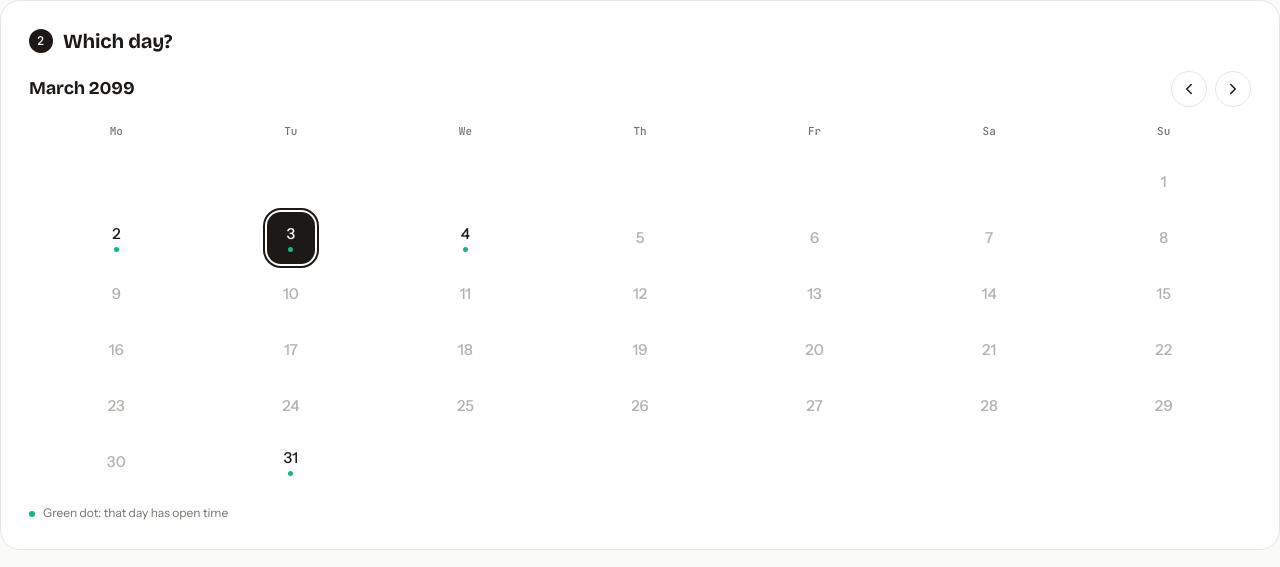
DatePicker › changes month with Page keys and the navigation buttons
Press Pagedown
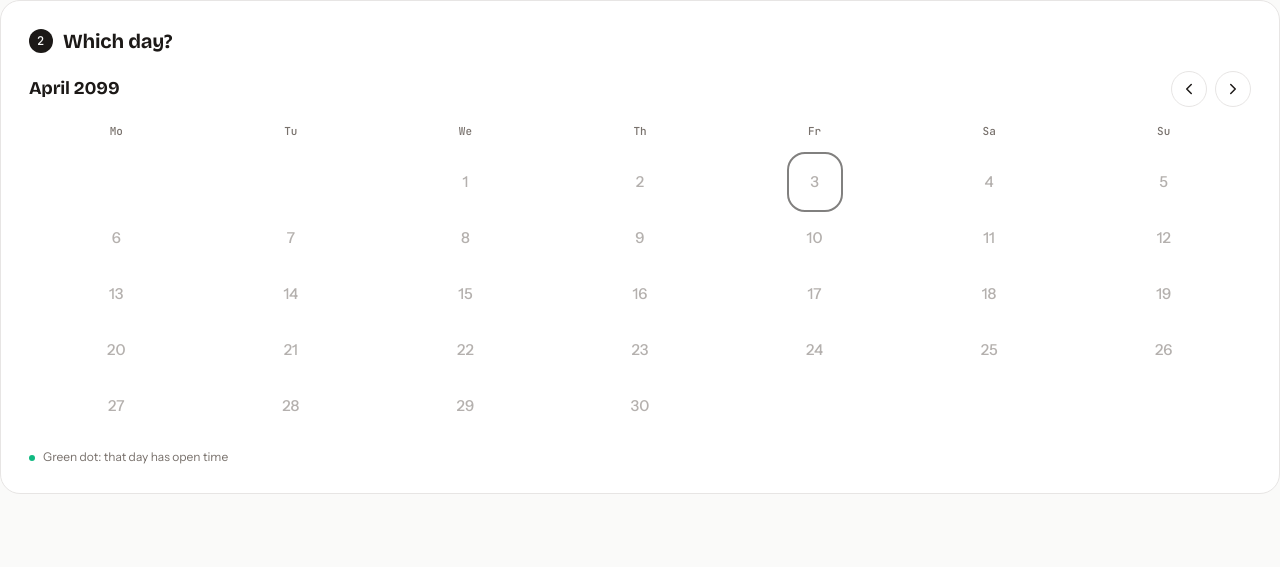
Now the heading "April 2099" is shown, box [29,78,120,100]
Click the button named "Previous month" at coordinates (1189, 89), box [1171,71,1207,107]
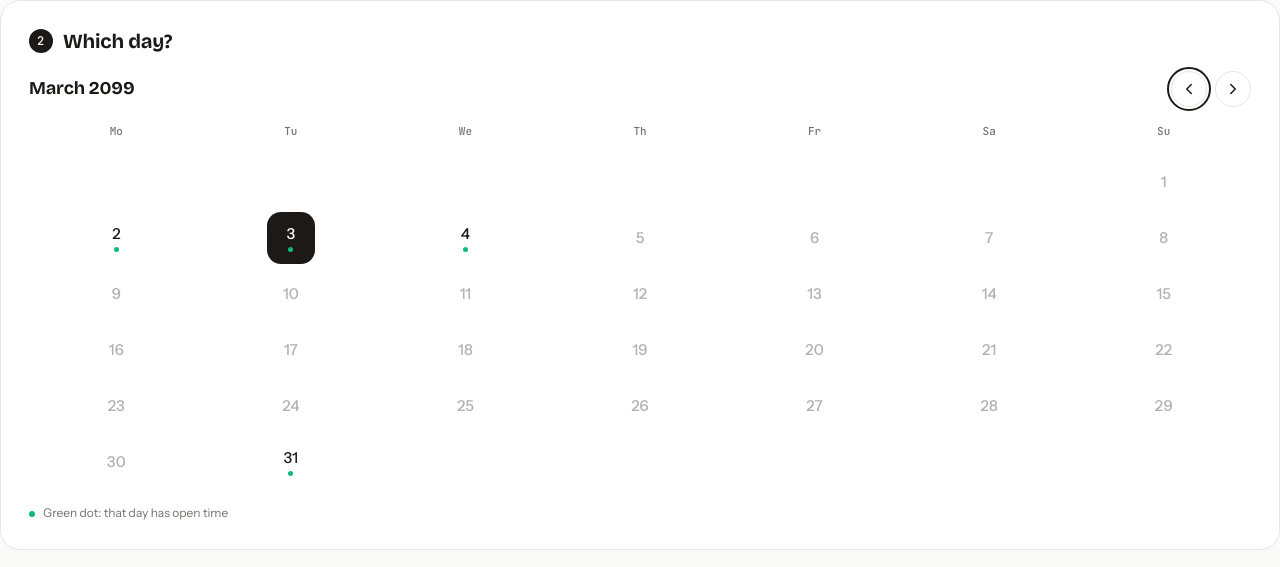
Now the heading "March 2099" is shown, box [29,78,134,100]
Click the button named "Next month" at coordinates (1233, 89), box [1215,71,1251,107]
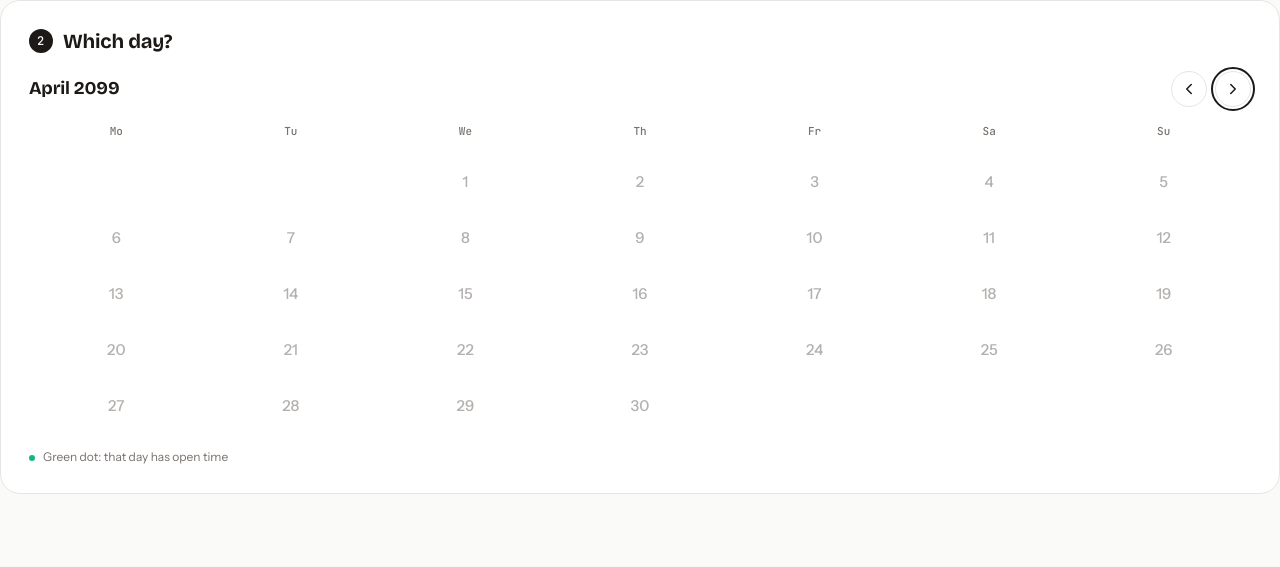
Click the button named "Next month" at coordinates (1233, 89), box [1215,71,1251,107]
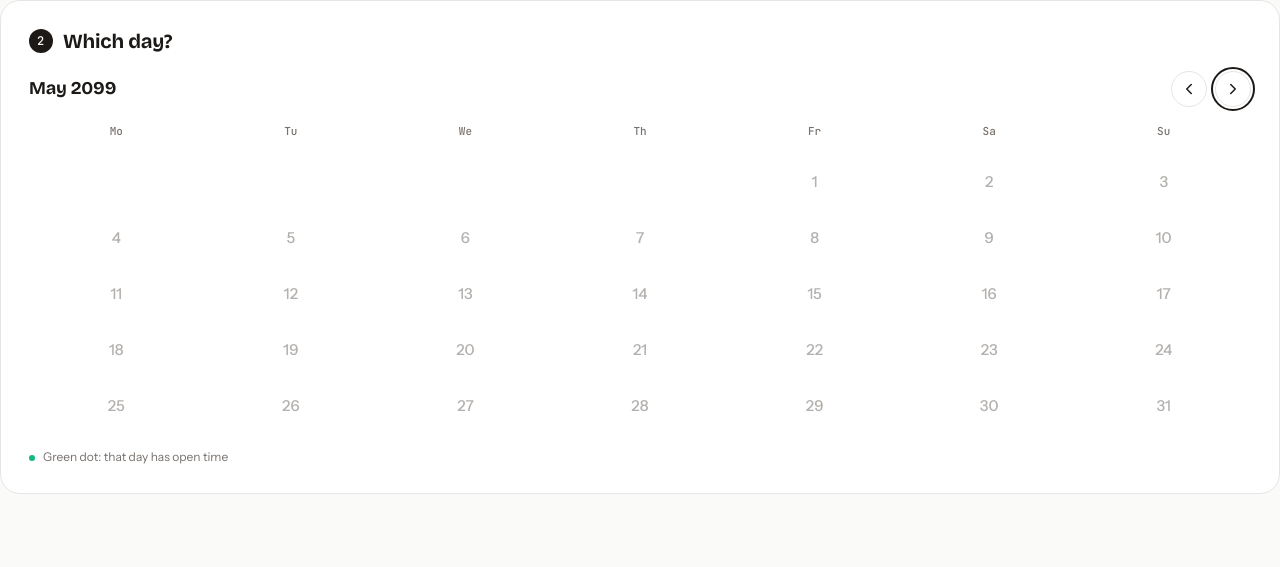
Now the heading "May 2099" is shown, box [29,78,116,100]
